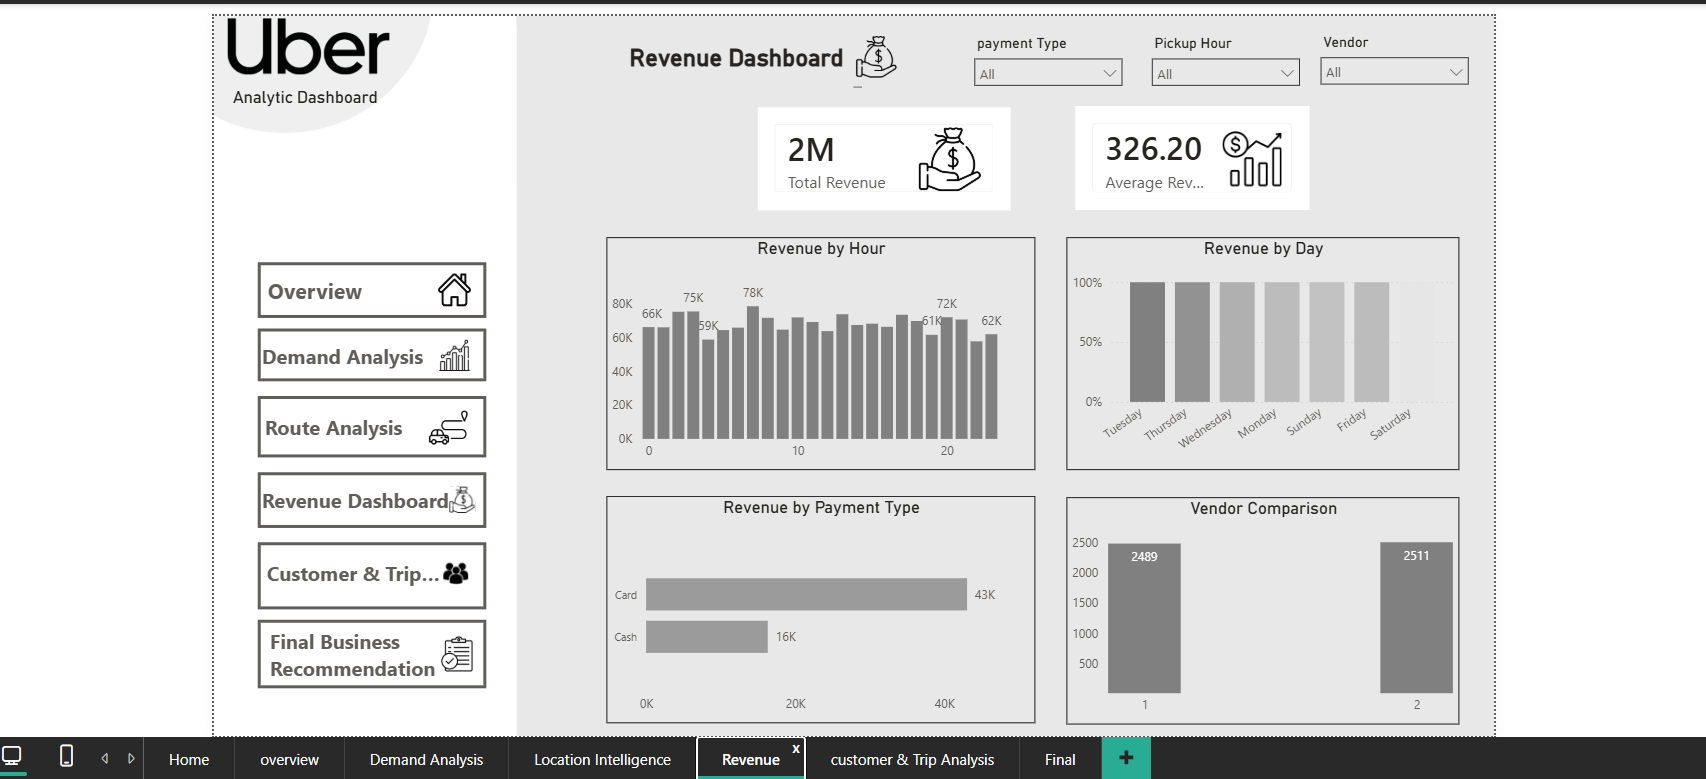

Layout of this report page (visuals, bound fields, positions):
{"tool":"powerbi","page":{"name":"Revenue","canvas":[1280,720],"ordinal":4},"visuals":[{"type":"cardVisual","fields":{"Data":["img.Total Revenue"]},"box":[750,94.3,238.6,104.3],"z":0},{"type":"clusteredColumnChart","title":"Revenue by Hour","fields":{"Category":["uber_analysis uber_cleaned.pickup_hour"],"Y":["img.Total Revenue"]},"box":[392.9,221.4,428.6,232.9],"z":1000},{"type":"clusteredBarChart","title":"Revenue by Payment Type","fields":{"Category":["uber_analysis uber_cleaned.payment_type"],"Y":["img.Total Revenue"]},"box":[392.9,480,428.6,227.1],"z":2000},{"type":"hundredPercentStackedColumnChart","title":"Revenue by Day","fields":{"Category":["uber_analysis uber_cleaned.pickup_day"],"Y":["img.Total Revenue"]},"box":[852.9,221.4,392.9,232.9],"z":3000},{"type":"textbox","title":"Revenue Dashboard","box":[392.9,27.1,260,48.6],"z":4000},{"type":"slicer","fields":{"Values":["uber_analysis uber_cleaned.payment_type"]},"box":[750,14.3,168.6,61.4],"z":5000},{"type":"slicer","fields":{"Values":["uber_analysis uber_cleaned.vendor_id"]},"box":[1095.7,12.9,168.6,62.9],"z":6000},{"type":"slicer","fields":{"Values":["uber_analysis uber_cleaned.pickup_hour"]},"box":[927.1,14.3,168.6,61.4],"z":7000},{"type":"cardVisual","fields":{"Data":["img.Average Revenue per Trip"]},"box":[1011.4,94.3,234.3,104.3],"z":8000},{"type":"clusteredColumnChart","title":"Vendor Comparison","fields":{"Category":["uber_analysis uber_cleaned.vendor_id"],"Y":["img.Total Trips"]},"box":[852.9,481.4,392.9,227.1],"z":9000},{"type":"shape","box":[0,0,302.9,734.3],"z":10000},{"type":"image","box":[0,0,302.9,170],"z":11000},{"type":"image","box":[14.3,0,161.4,61.4],"z":12000},{"type":"textbox","title":"Analytic Dashboard","box":[14.3,71.4,195.7,38.6],"z":13000},{"type":"actionButton","box":[18.6,231.4,264.3,65.7],"z":14000},{"type":"actionButton","box":[18.6,314.3,264.3,68.6],"z":15000},{"type":"actionButton","box":[20,395.7,262.9,68.6],"z":16000},{"type":"actionButton","box":[20,480,264.3,60],"z":17000},{"type":"actionButton","box":[21.4,558.6,262.9,68.6],"z":18000},{"type":"actionButton","box":[18.6,638.6,262.9,68.6],"z":19000}]}

Visuals, with their boxes on the page's 1280x720 design canvas (x1, y1, x2, y2). These are canvas units, not pixel positions in the 1706x779 screenshot, which may show the page scaled, cropped or inside an application window:
cardVisual - img.Total Revenue: detection(750, 94, 989, 199)
"Revenue by Hour" clusteredColumnChart: detection(393, 221, 822, 454)
"Revenue by Payment Type" clusteredBarChart: detection(393, 480, 822, 707)
"Revenue by Day" hundredPercentStackedColumnChart: detection(853, 221, 1246, 454)
"Revenue Dashboard" textbox: detection(393, 27, 653, 76)
slicer - uber_analysis uber_cleaned.payment_type: detection(750, 14, 919, 76)
slicer - uber_analysis uber_cleaned.vendor_id: detection(1096, 13, 1264, 76)
slicer - uber_analysis uber_cleaned.pickup_hour: detection(927, 14, 1096, 76)
cardVisual - img.Average Revenue per Trip: detection(1011, 94, 1246, 199)
"Vendor Comparison" clusteredColumnChart: detection(853, 481, 1246, 708)
shape: detection(0, 0, 303, 734)
image: detection(0, 0, 303, 170)
image: detection(14, 0, 176, 61)
"Analytic Dashboard" textbox: detection(14, 71, 210, 110)
actionButton: detection(19, 231, 283, 297)
actionButton: detection(19, 314, 283, 383)
actionButton: detection(20, 396, 283, 464)
actionButton: detection(20, 480, 284, 540)
actionButton: detection(21, 559, 284, 627)
actionButton: detection(19, 639, 282, 707)
